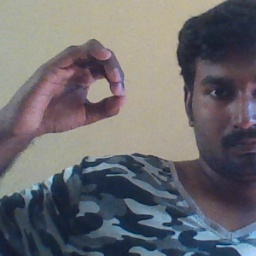O: (15, 37, 136, 129)
